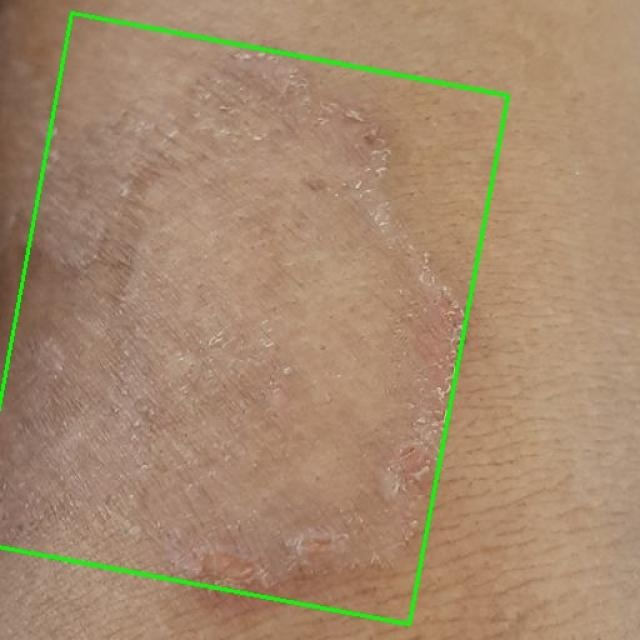Tinea Corporis: (0, 8, 514, 624)
